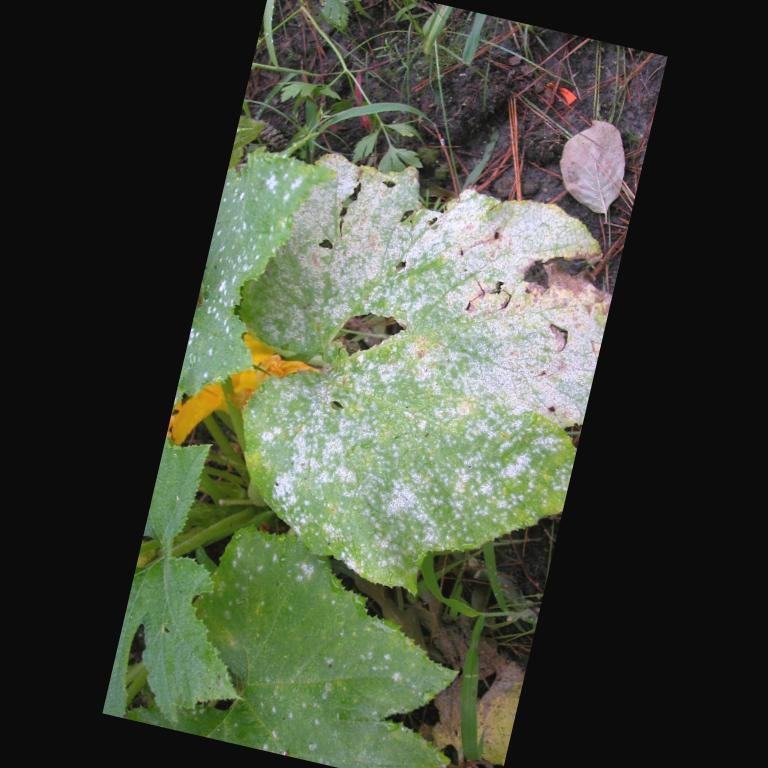powdery-mildew: (277, 361, 444, 521), (302, 168, 426, 314), (428, 395, 564, 525)
